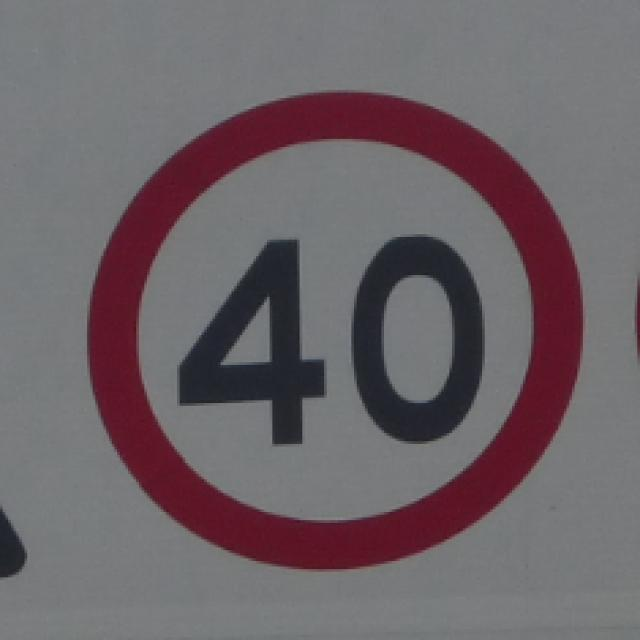speed limit 40: (83, 91, 581, 571)
